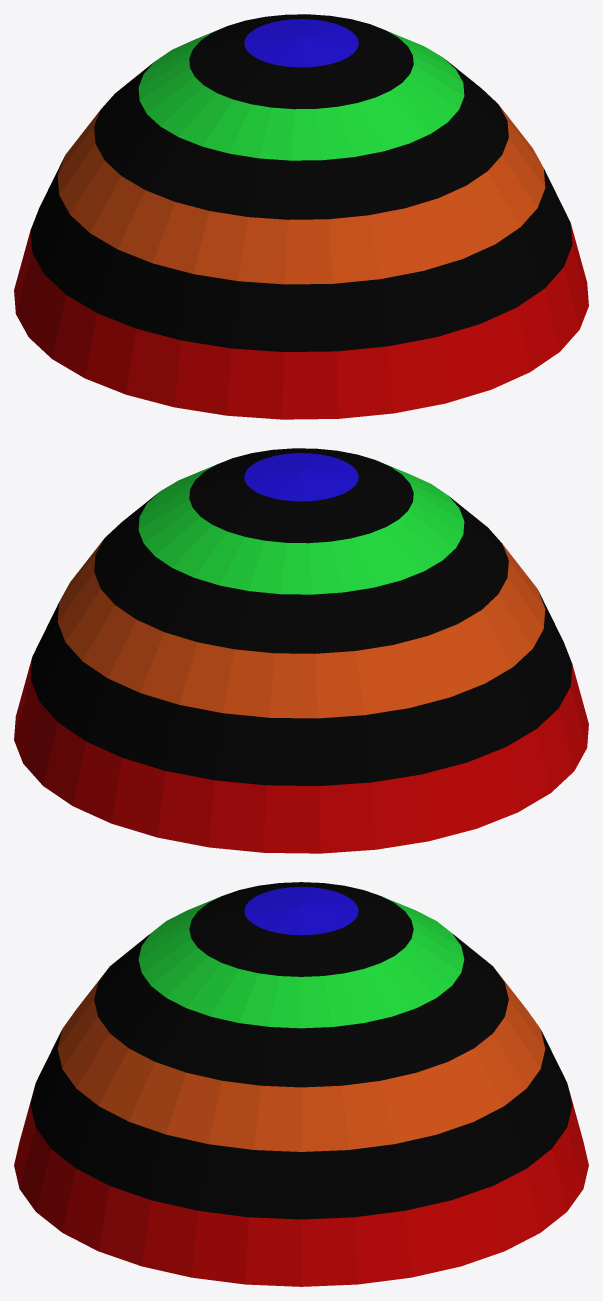
File: testt.dae
The picture shows the model from 3 angles, top to bottom: view 1: azimuth 30°, elevation 25°; view 2: azimuth 150°, elevation 25°; view 3: azimuth 270°, elevation 25°; orthographic projection.
Visible parts, largest first — view 1: Sphere; view 2: Sphere; view 3: Sphere.
Part boxes in pixels (left/top/right/bottom): Sphere: left=14, top=14, right=588, bottom=419; Sphere: left=14, top=448, right=588, bottom=853; Sphere: left=14, top=882, right=588, bottom=1286.
Bounding box in the file's own units: 16.02 × 16.02 × 8.01.
